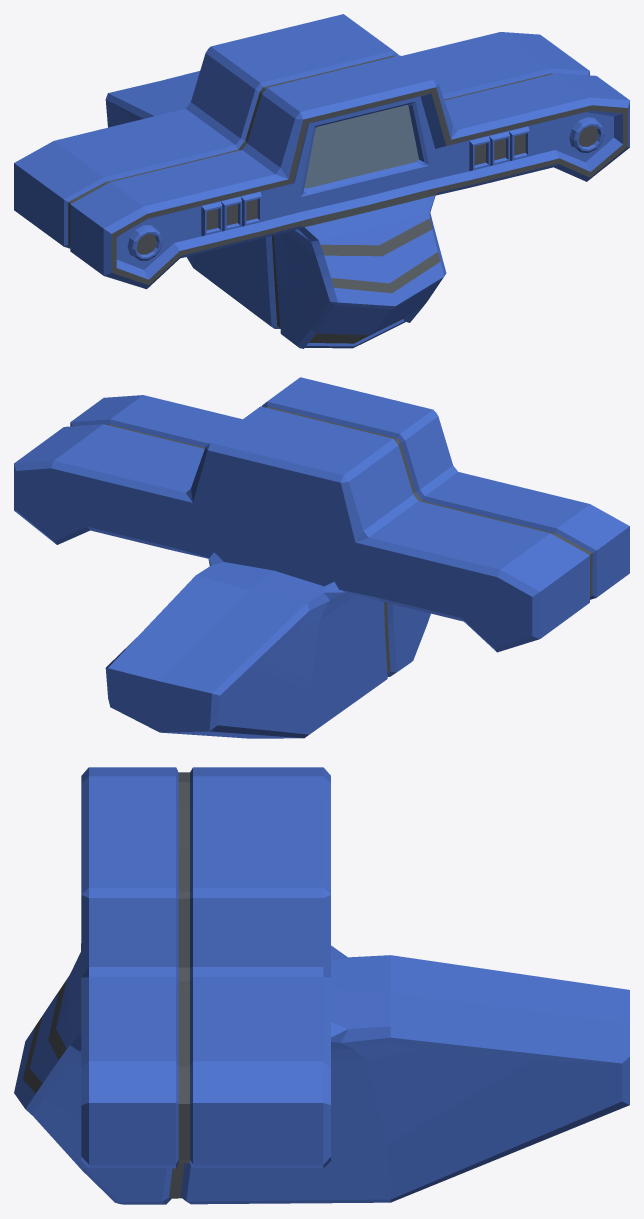
The model's file is Dropship_01_Front_Body_Blue.fbx.
The picture shows the model from 3 angles, top to bottom: view 1: azimuth 30°, elevation 25°; view 2: azimuth 150°, elevation 25°; view 3: azimuth 270°, elevation 25°; orthographic projection. The views are drawn at different scales.
Visible parts, largest first — view 1: Dropship_01_Front_Body_Blue; view 2: Dropship_01_Front_Body_Blue; view 3: Dropship_01_Front_Body_Blue.
Part boxes in pixels (x1,y1,x2,y2): Dropship_01_Front_Body_Blue: [14, 14, 629, 348]; Dropship_01_Front_Body_Blue: [14, 377, 629, 738]; Dropship_01_Front_Body_Blue: [14, 767, 629, 1204].
Size of the model in its own units: 1191 by 568 by 923.
3 materials, 3 textured.
